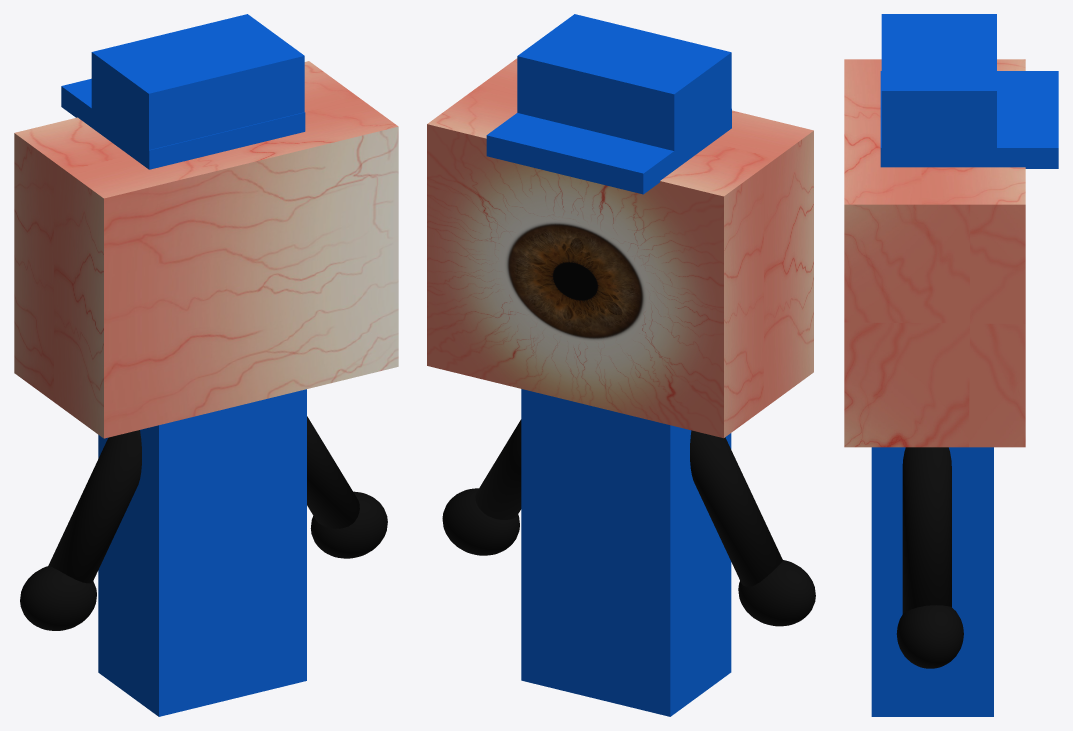
Rendered from GUARDIA1.fbx.
3 renders of one model, left to right at view 1: azimuth 30°, elevation 25°; view 2: azimuth 150°, elevation 25°; view 3: azimuth 270°, elevation 25°, orthographic.
Visible parts, largest first — view 1: Cylinder.001; view 2: Cylinder.001; view 3: Cylinder.001.
Part boxes in pixels (x1,y1,x2,y2): Cylinder.001: (14,14,398,716); Cylinder.001: (427,14,815,716); Cylinder.001: (844,14,1058,716).
Bounding box in the file's own units: 84.11 × 138 × 42.69.
Materials: 3 (1 with a texture image).
